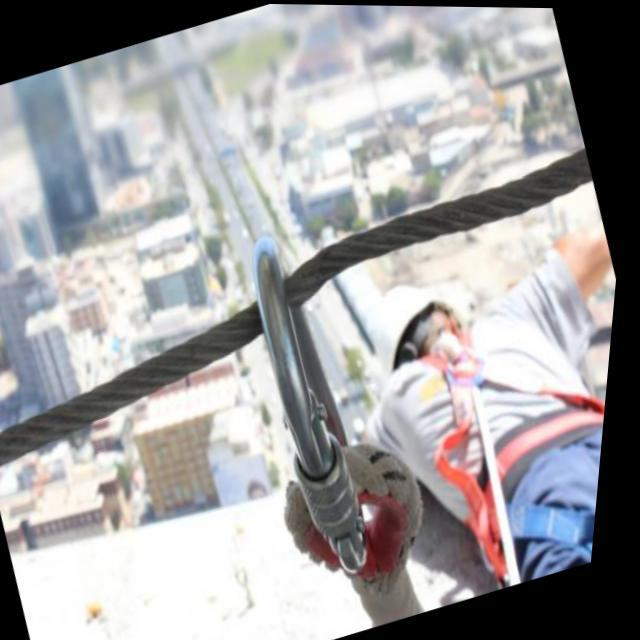belt: (400, 272, 622, 596)
